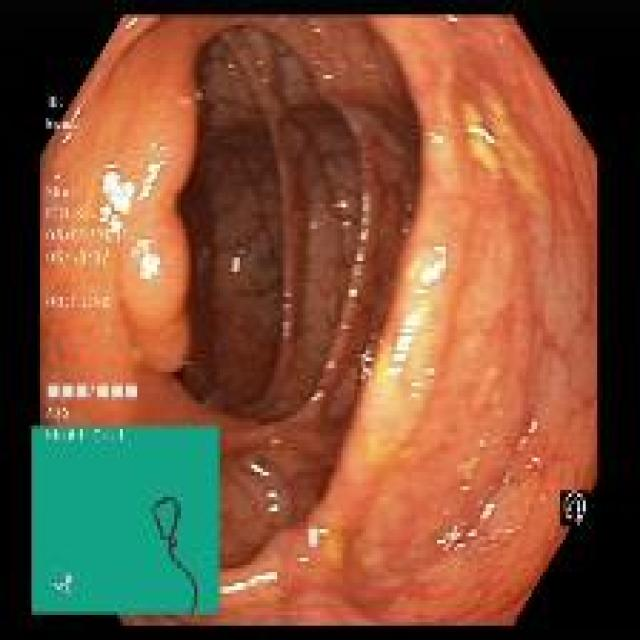Polyps: (74, 19, 242, 373)
